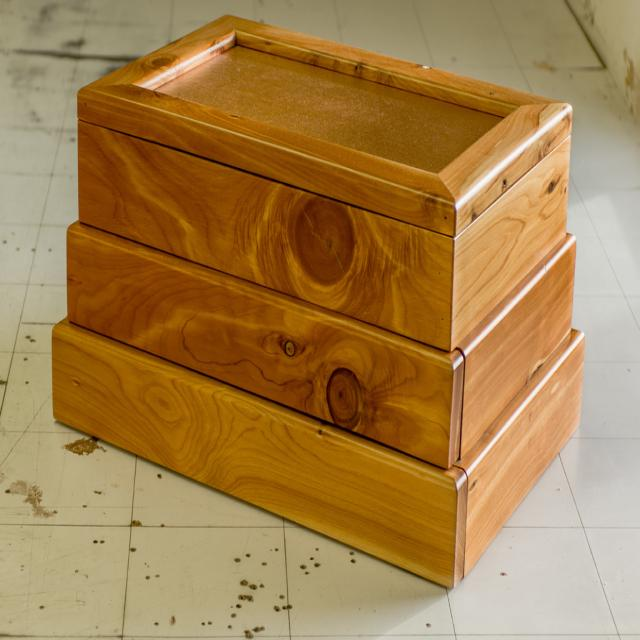Box: (52, 14, 586, 588)
